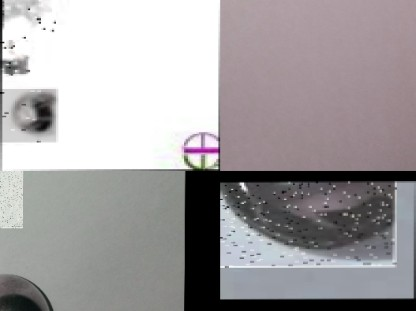ironball: (220, 182, 394, 268), (0, 88, 55, 142), (1, 0, 53, 40), (0, 270, 49, 309), (0, 23, 27, 75)
